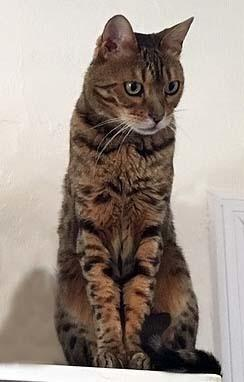bengal: (83, 10, 201, 147)
